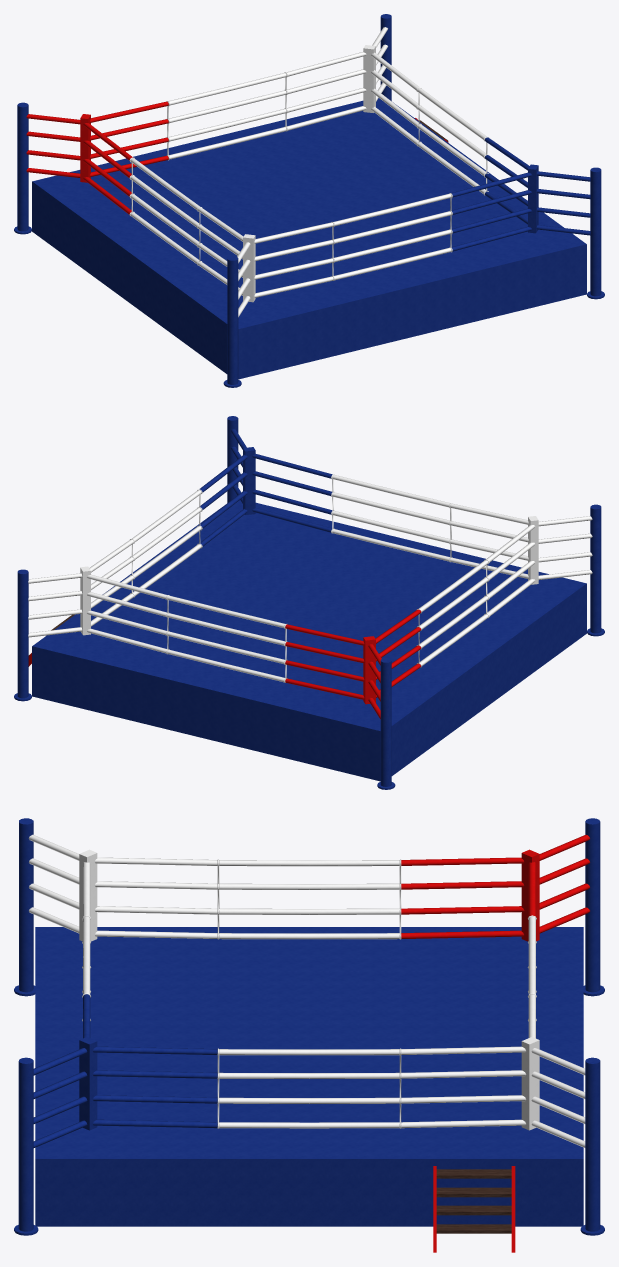
The model's file is ring.FBX.
The picture shows the model from 3 angles, top to bottom: view 1: azimuth 30°, elevation 25°; view 2: azimuth 150°, elevation 25°; view 3: azimuth 270°, elevation 25°; orthographic projection. The views are drawn at different scales.
Parts seen in each view (by area): view 1: ring; view 2: ring; view 3: ring.
Part boxes in pixels (box(x1,y1,x2,y2)): ring: box(14, 14, 604, 387); ring: box(14, 416, 604, 789); ring: box(14, 818, 604, 1252).
Size of the model in its own units: 8.43 by 2.5 by 7.89.
Materials: 1 (1 with a texture image).
